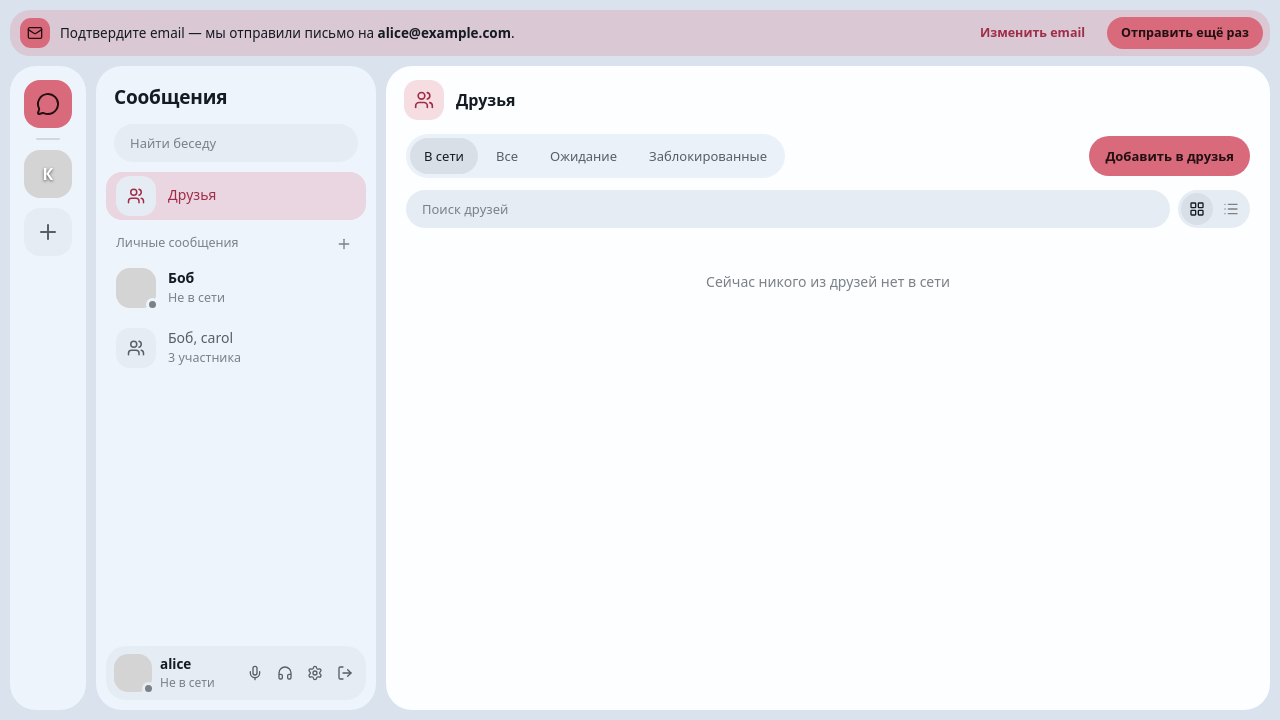
Test: verify email banner › asks unverified users to confirm and can resend the email
The width and height of the screenshot is (1280, 720).
Step 1. Click the button "Отправить ещё раз" → [1185, 33], box [1107,17,1263,49]
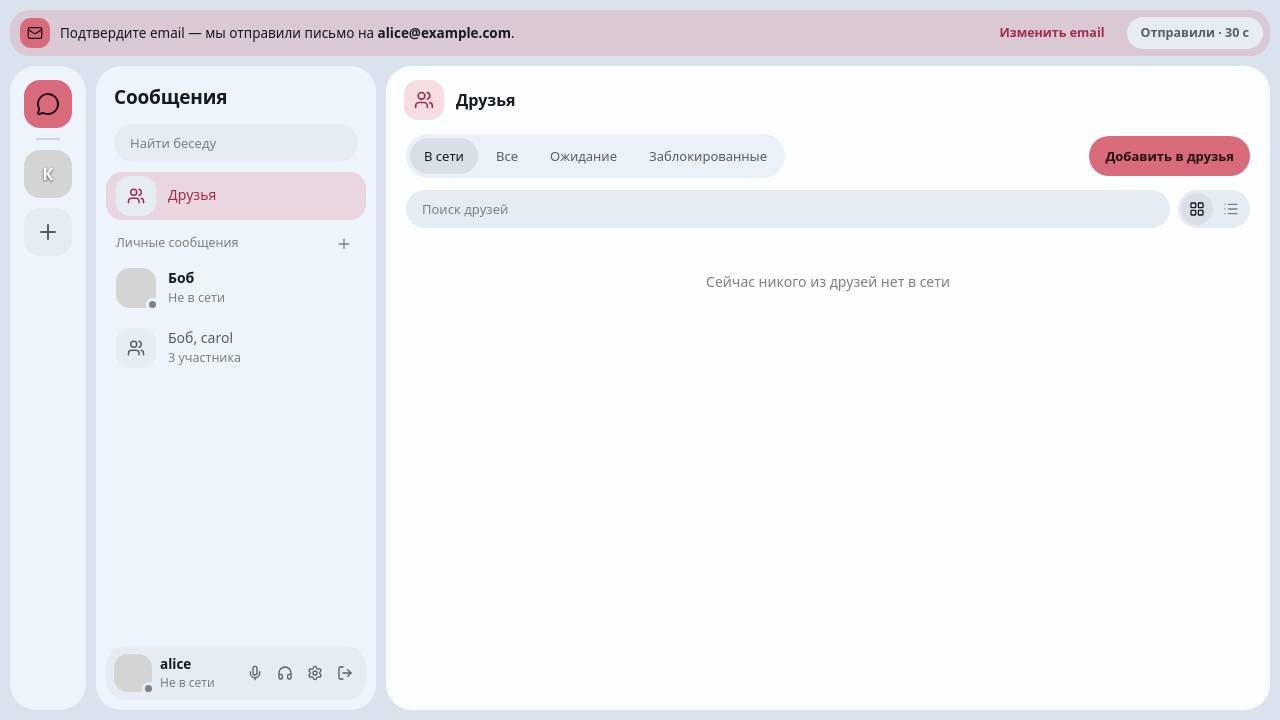
Expected: the button "Отправили · 30 с" is disabled, [1126,17,1263,49]
